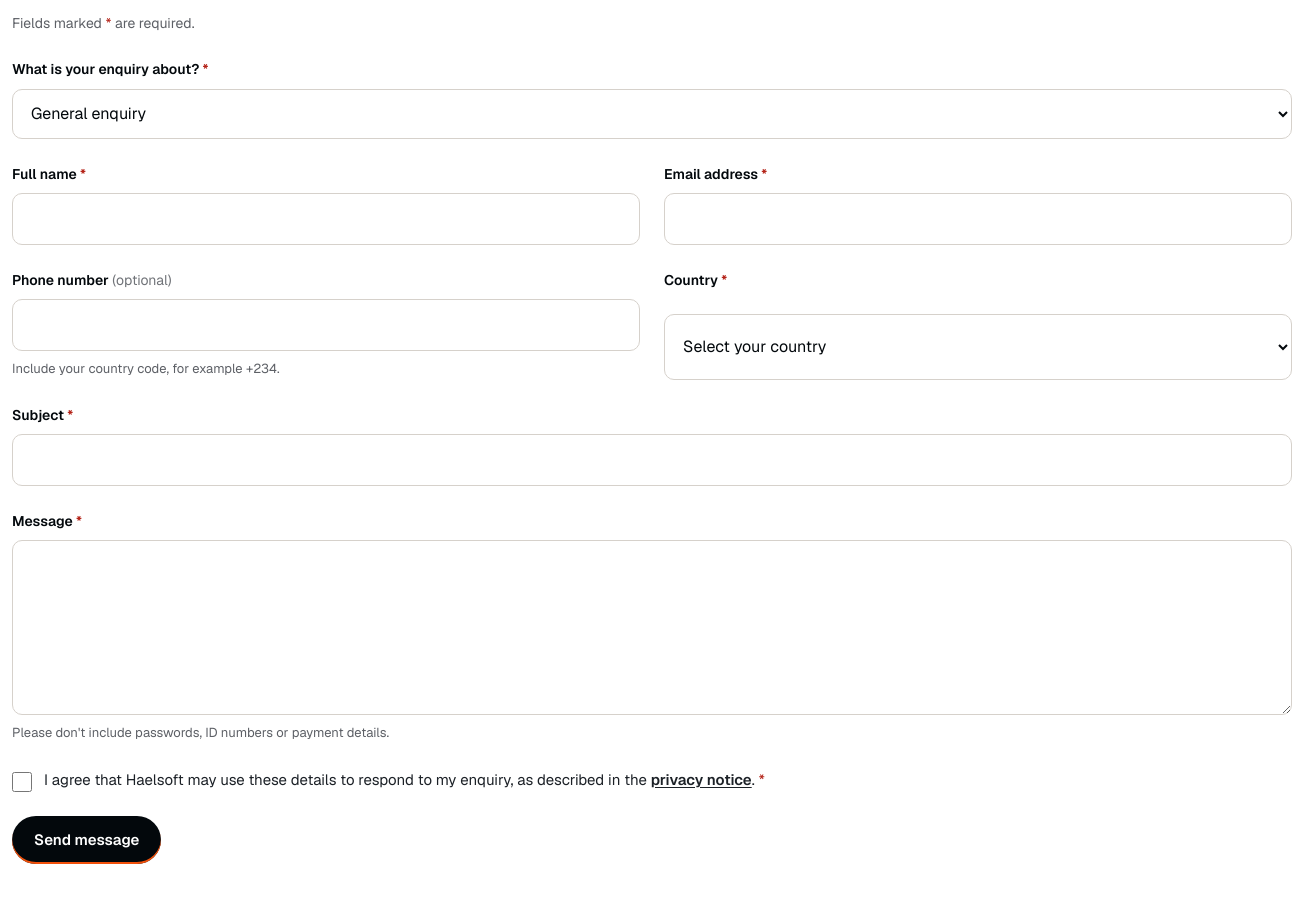
Test: ContactForm › tells the user the message was not sent when the network fails
Type "Ada Obi" into the field labelled "Full name *" at (326, 219), box [12,193,640,245]
Type "ada@example.com" into the field labelled "Email address *" at (978, 219), box [664,193,1292,245]
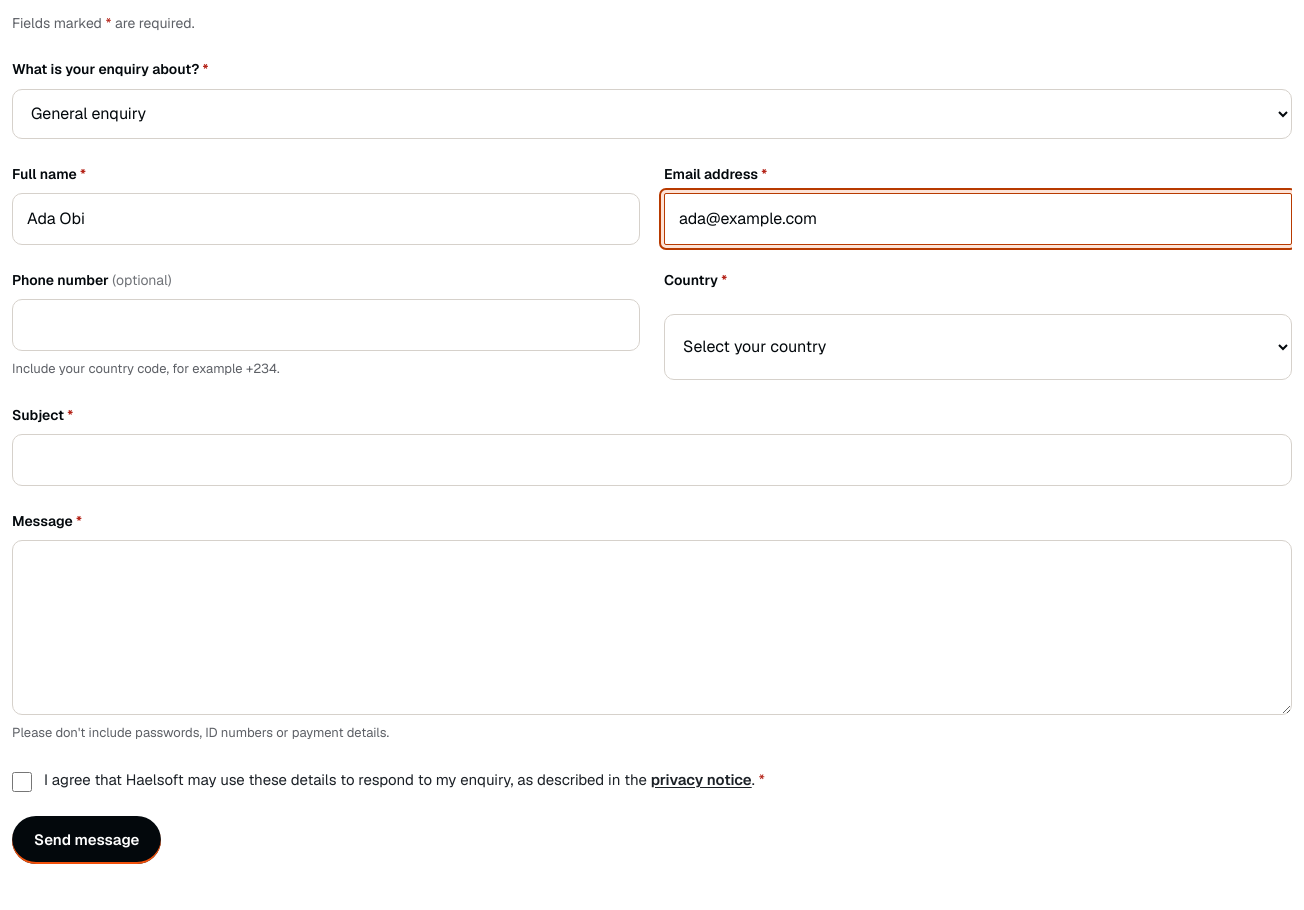
Select "Kenya" in the dropdown labelled "Country *" at (978, 347), box [664,314,1292,380]
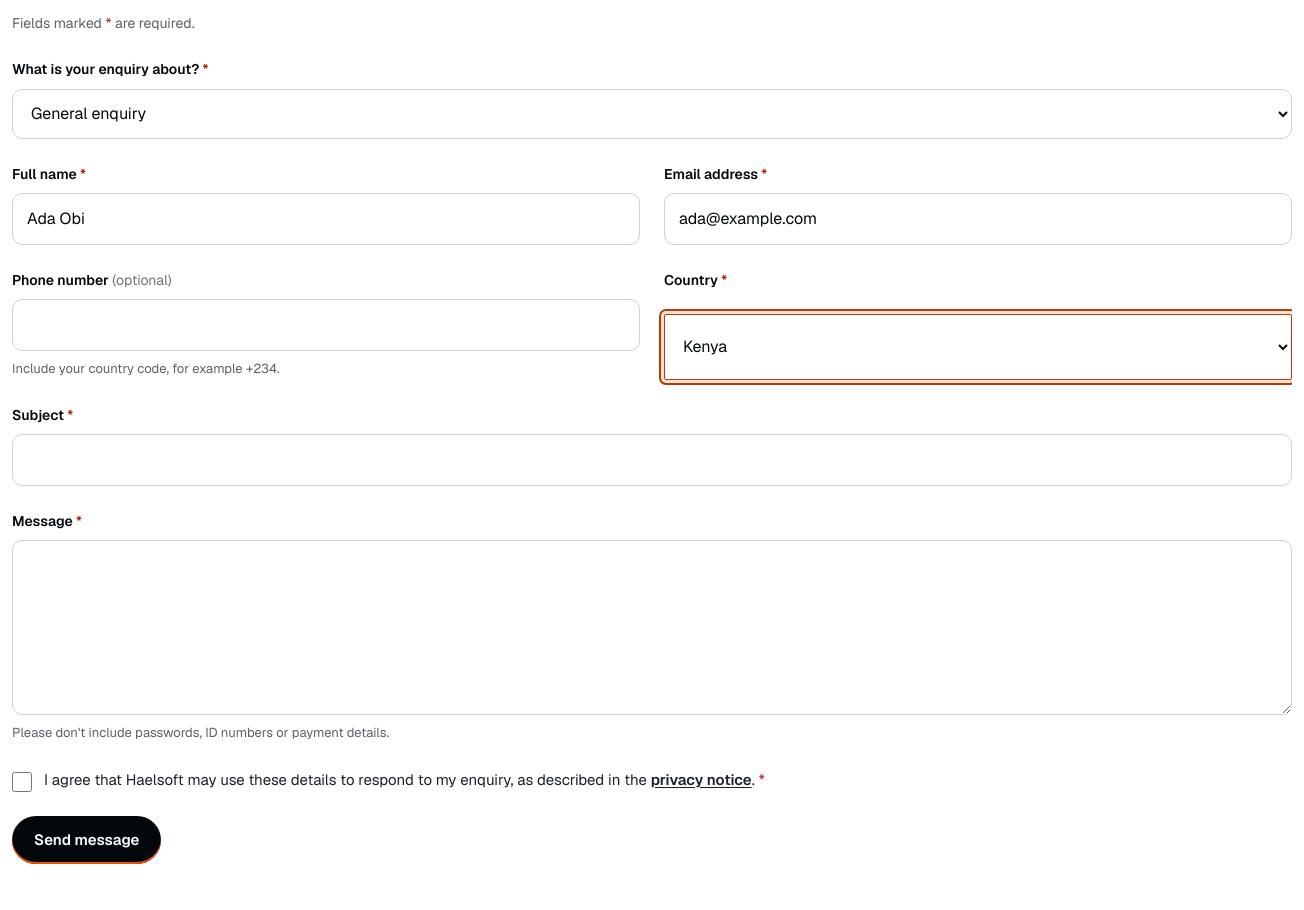
Type "Course updates" into the field labelled "Subject *" at (652, 460), box [12,434,1292,486]
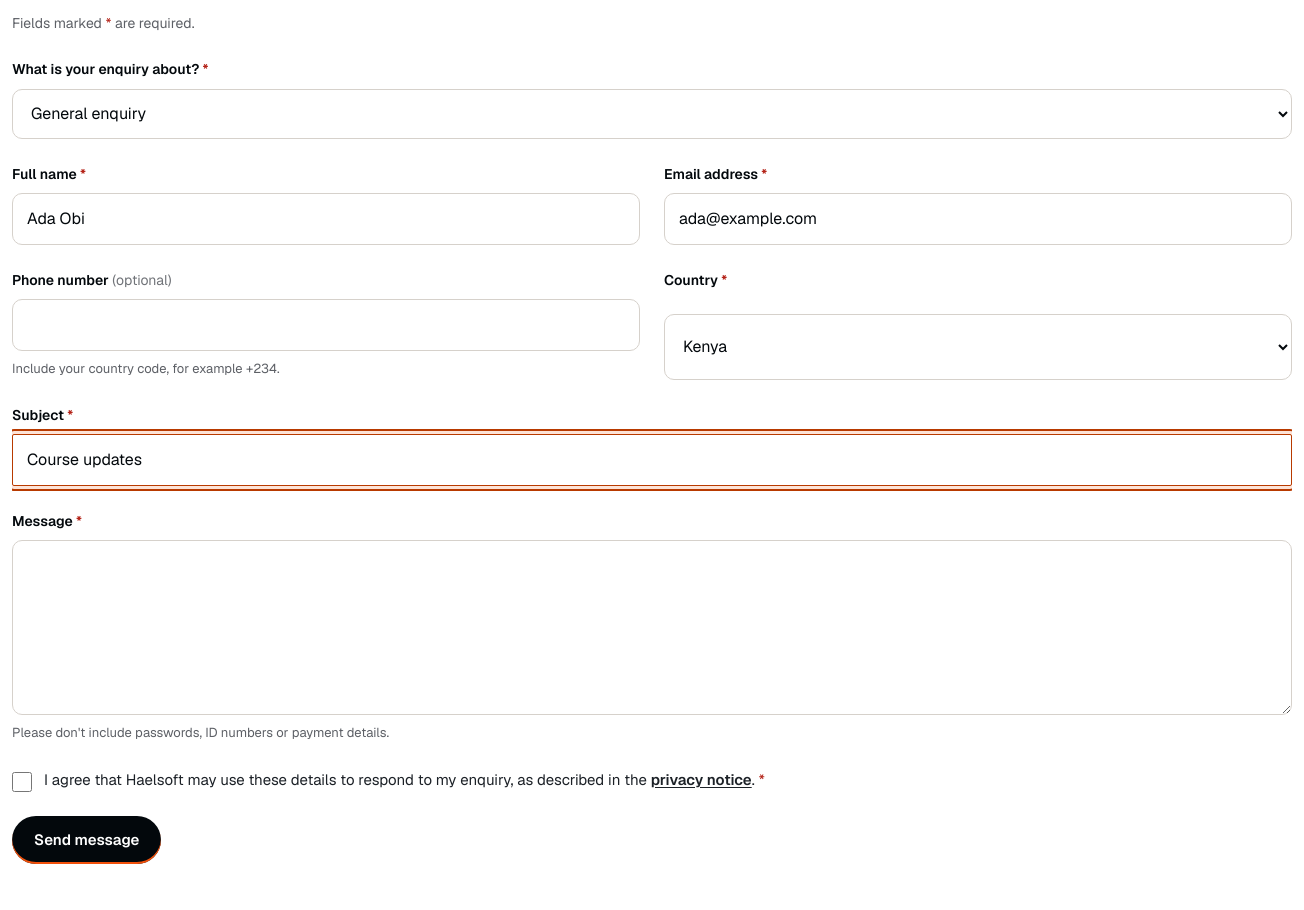
Type "Please tell me when the data courses open." into the text box labelled "Message *" at (652, 627), box [12,540,1292,715]
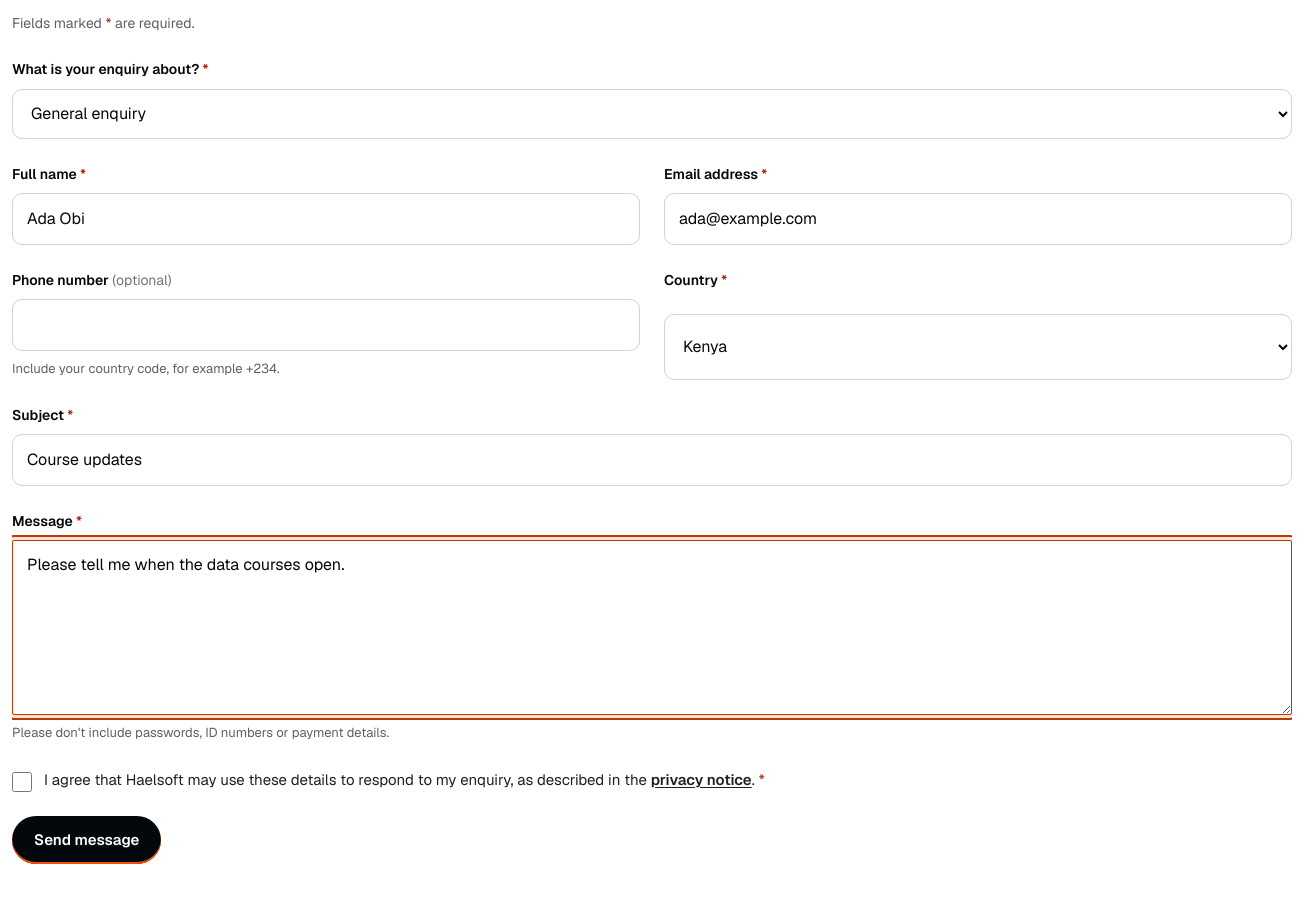
Click the checkbox at (22, 782), box [12,772,32,792]
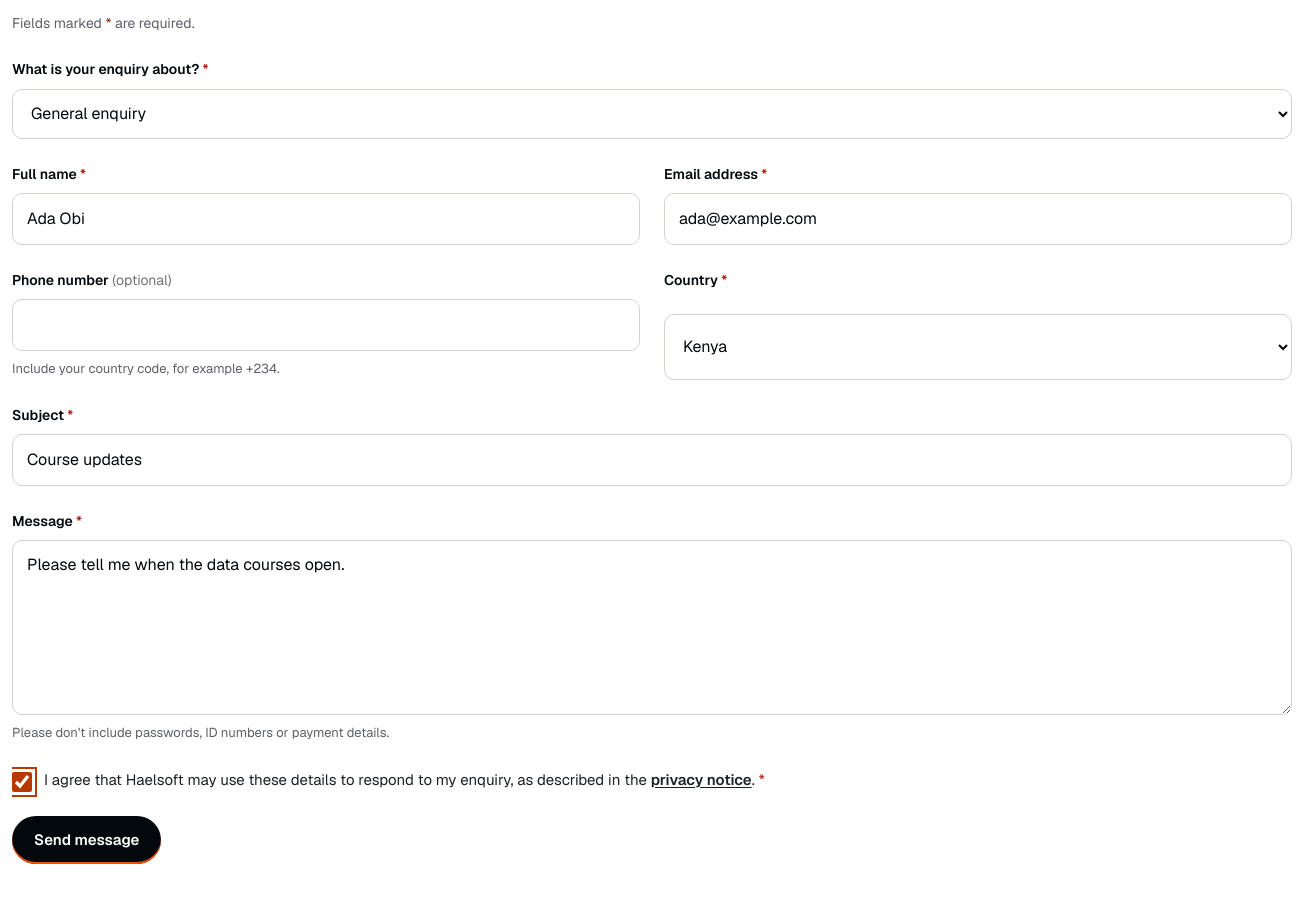
Click the button "Send message" at (87, 840), box [12,816,162,864]
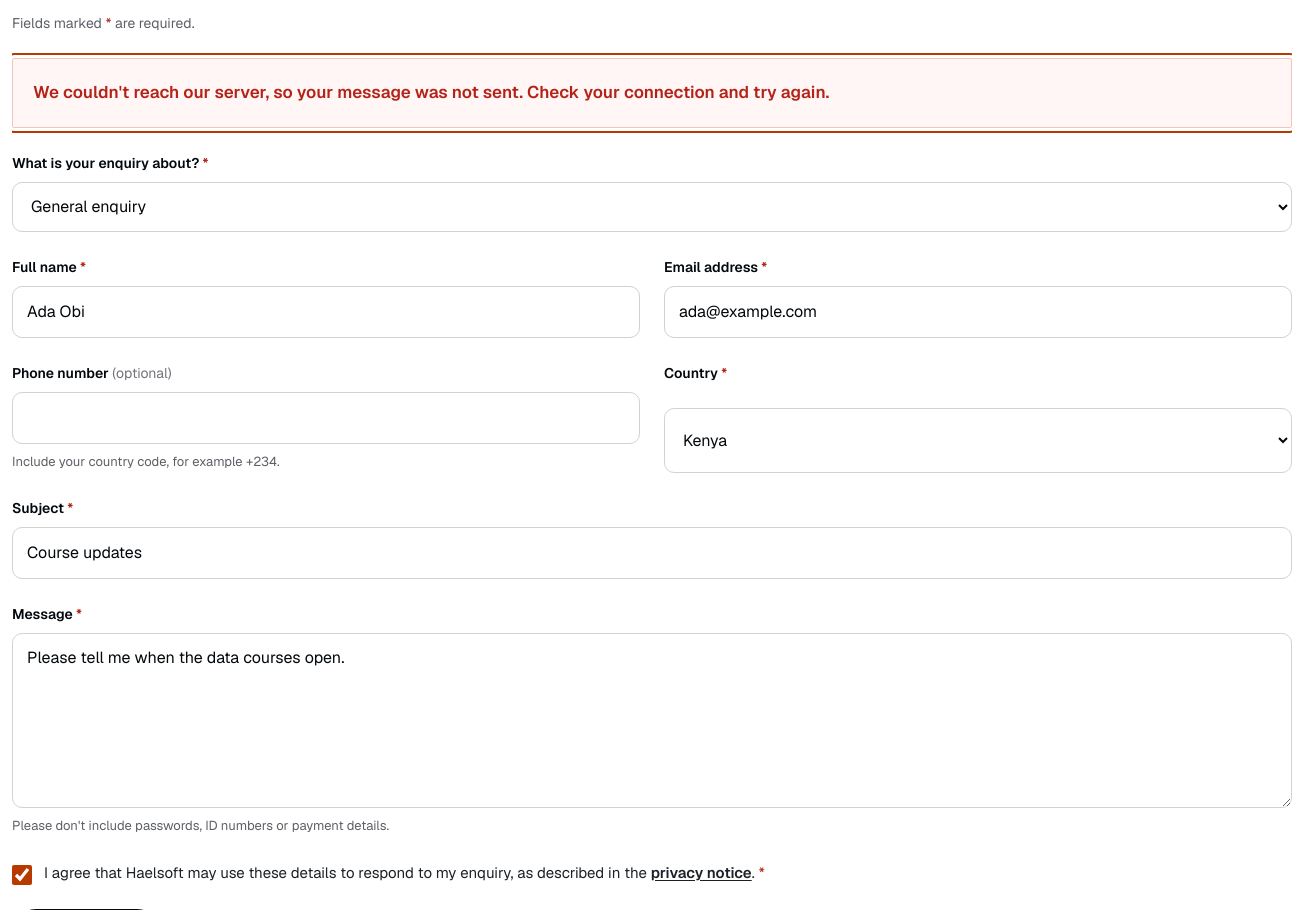
Check: the message shows "was not sent", box [33,81,829,103]
